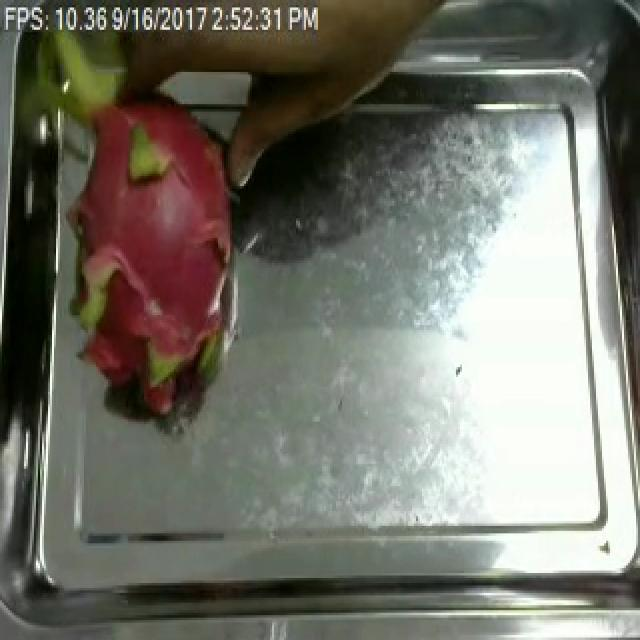fruit: (10, 32, 264, 432)
